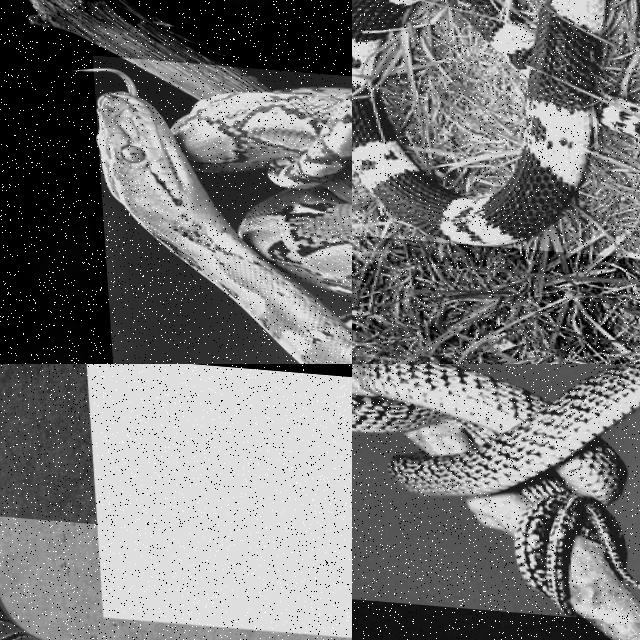Chrysopelea ornata: (352, 364, 639, 616)
Malayopython reticulatus: (98, 88, 351, 363)
Naja siamensis: (352, 0, 605, 245)
Python bivittatus: (0, 607, 39, 639)
